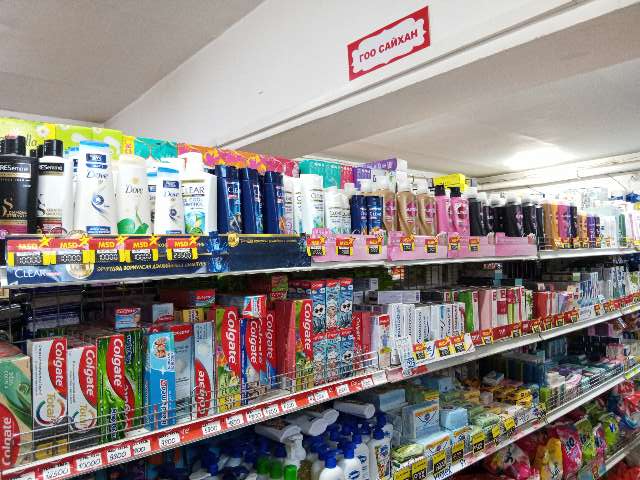blend a med: (142, 335, 171, 429)
clear: (181, 152, 211, 245), (295, 171, 324, 241), (216, 164, 243, 236), (245, 164, 266, 237), (268, 171, 290, 239), (327, 184, 344, 239), (352, 188, 366, 245), (369, 187, 382, 235)
colgate: (29, 336, 72, 451), (2, 360, 32, 469), (214, 301, 241, 413), (99, 333, 126, 436), (292, 301, 316, 401), (194, 323, 214, 424), (74, 343, 95, 435), (173, 325, 191, 423), (262, 313, 280, 393), (245, 322, 263, 399), (338, 277, 357, 331), (312, 283, 329, 338), (372, 315, 390, 366), (318, 341, 331, 387), (340, 332, 354, 370), (330, 330, 339, 377), (331, 281, 338, 329)
dove: (75, 136, 115, 250), (119, 146, 152, 245), (155, 165, 180, 247)
sensodyne: (430, 301, 447, 348), (391, 302, 405, 356), (416, 302, 428, 360), (406, 304, 415, 353)
splat: (469, 290, 481, 336), (487, 288, 497, 338), (499, 286, 508, 333)
sunsilk: (399, 174, 419, 237), (455, 183, 474, 244), (421, 177, 436, 239), (438, 180, 452, 244), (382, 176, 397, 231)
tresemme: (34, 134, 72, 239), (1, 135, 31, 239)
